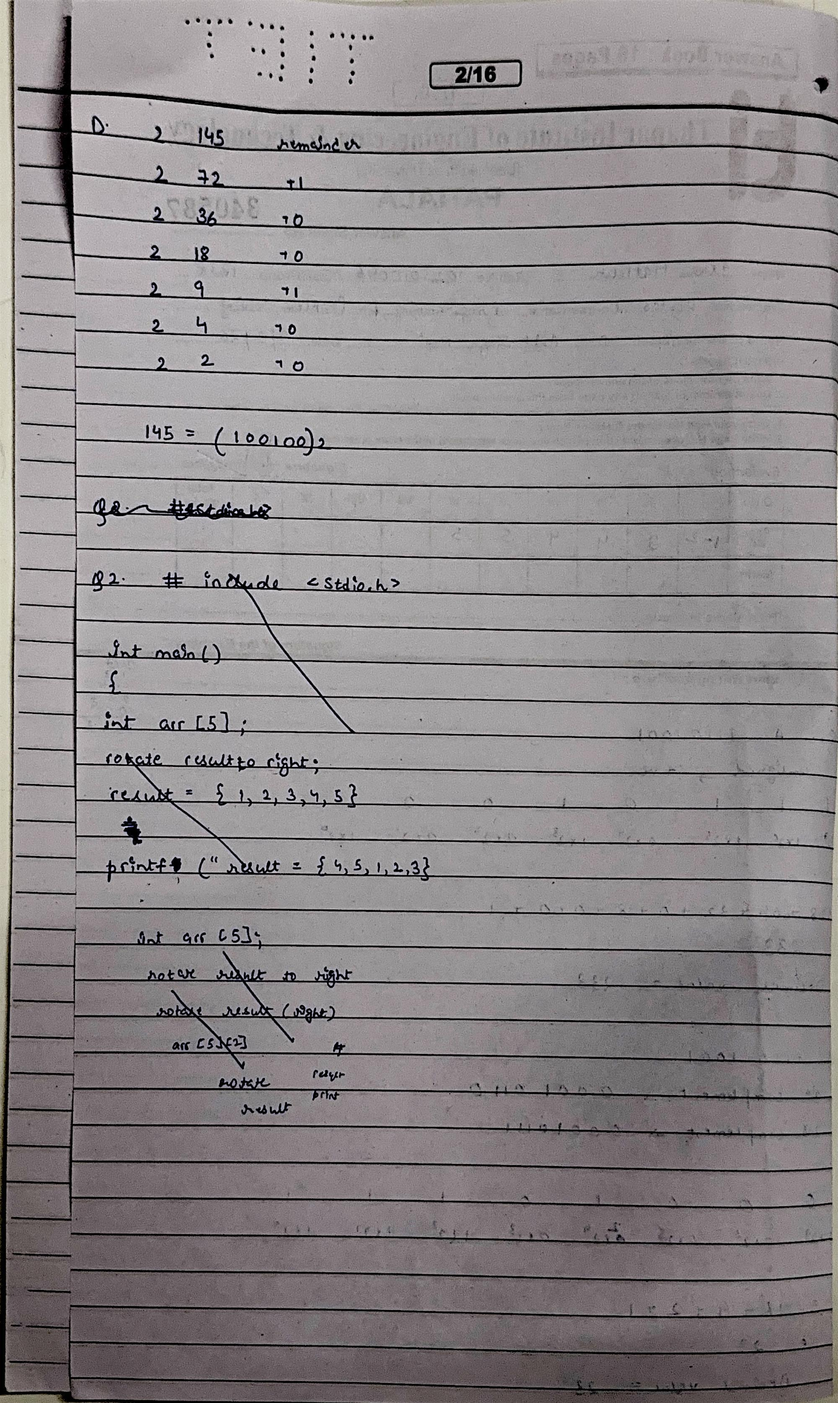cuttings: (87, 567, 437, 886), (133, 923, 359, 1123), (90, 495, 278, 529)
